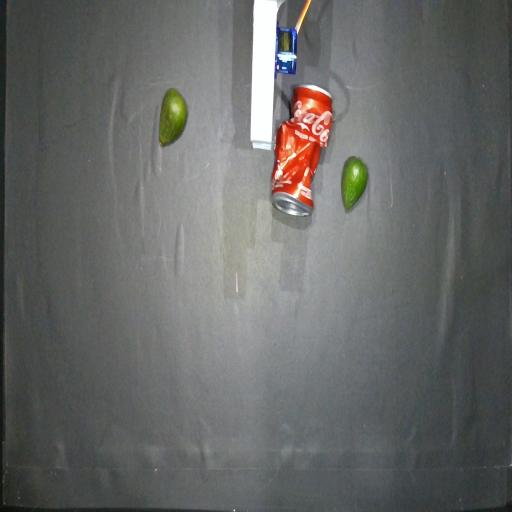higo: (158, 88, 187, 146), (341, 156, 368, 210)
lata_defectuoso: (271, 85, 332, 216)
